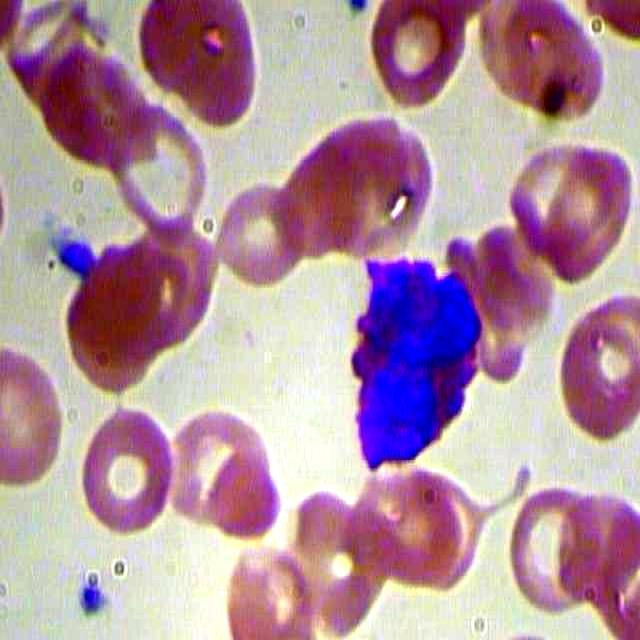Platelets: (66, 565, 110, 624), (51, 235, 100, 281)
RBC: (472, 1, 610, 127), (361, 464, 486, 595), (137, 1, 262, 131), (532, 144, 640, 284), (74, 401, 179, 539), (108, 103, 210, 245), (506, 479, 606, 616), (558, 288, 640, 453), (364, 1, 472, 111), (215, 178, 308, 286), (1, 345, 69, 492), (225, 538, 313, 640), (204, 443, 283, 536)
WBC: (337, 247, 492, 496)
